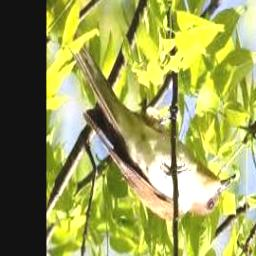Cuckoo: (67, 23, 236, 219)
